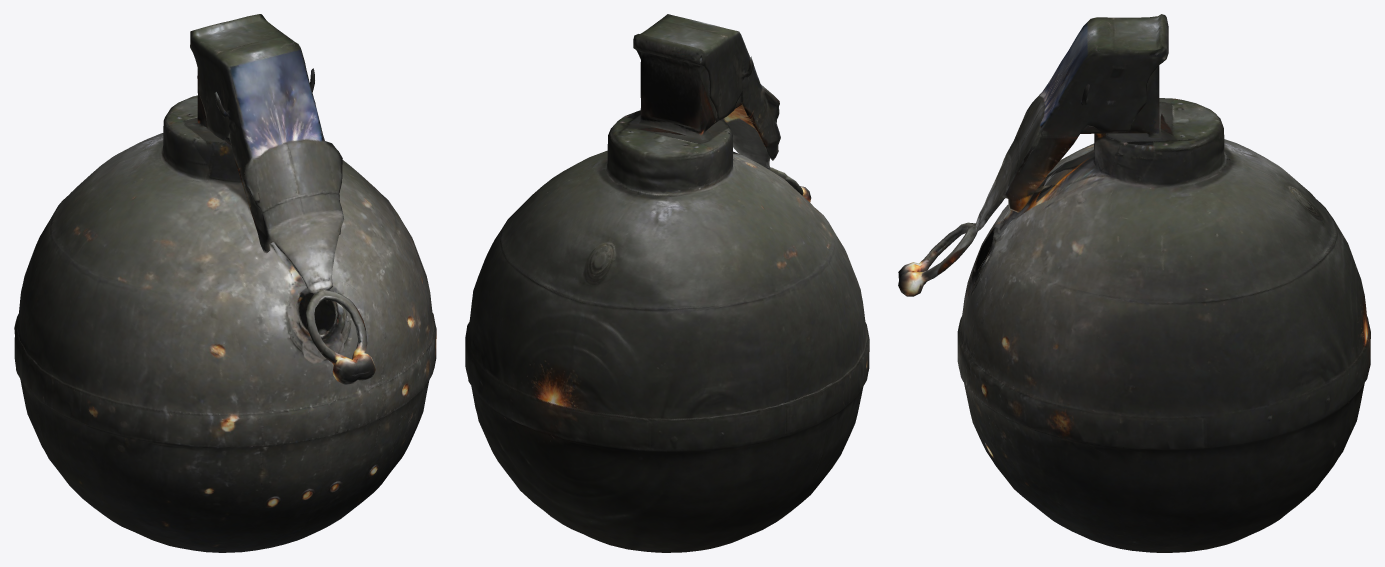
The model's file is bomb.glb.
3 views of the same model, side by side, from view 1: azimuth 30°, elevation 25°; view 2: azimuth 150°, elevation 25°; view 3: azimuth 270°, elevation 25° (orthographic). The views are drawn at different scales.
Bounding box in the file's own units: 1.5 × 2 × 1.7.
1 material, 1 textured.
